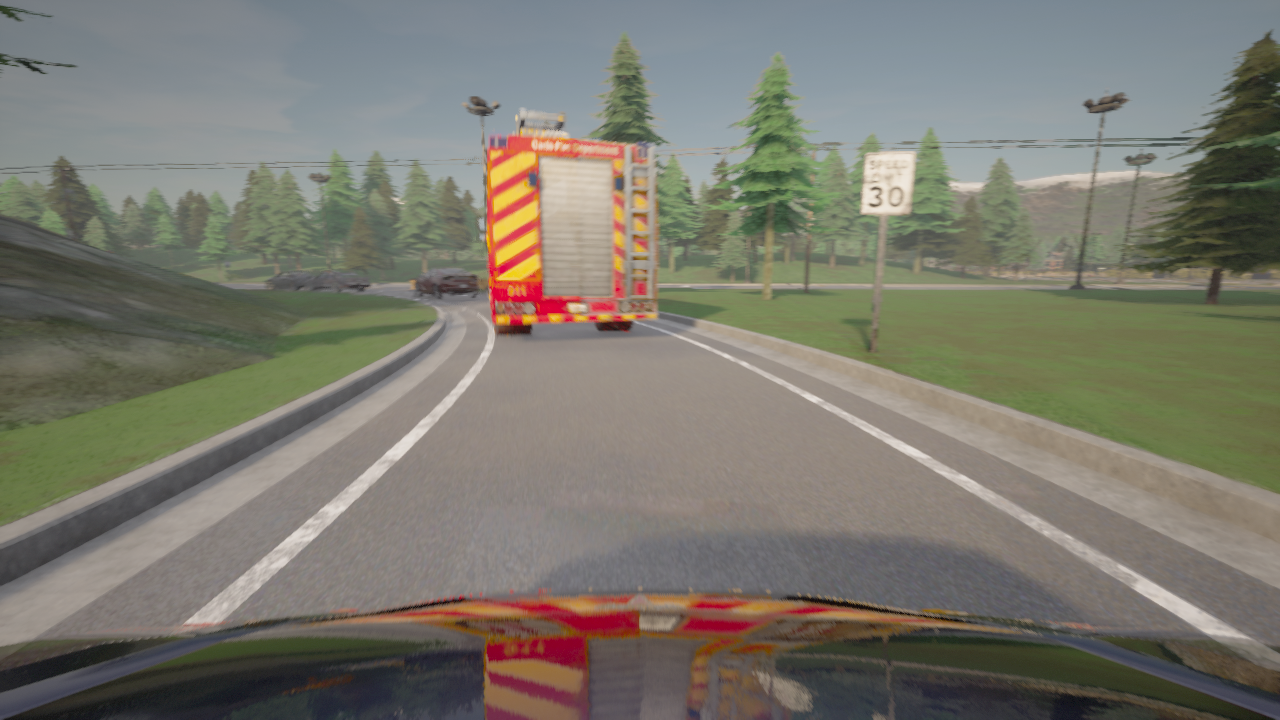cyclist: (0, 588, 1279, 719), (477, 108, 657, 335), (415, 266, 478, 298), (304, 270, 371, 291), (266, 271, 315, 289), (106, 250, 111, 252)
